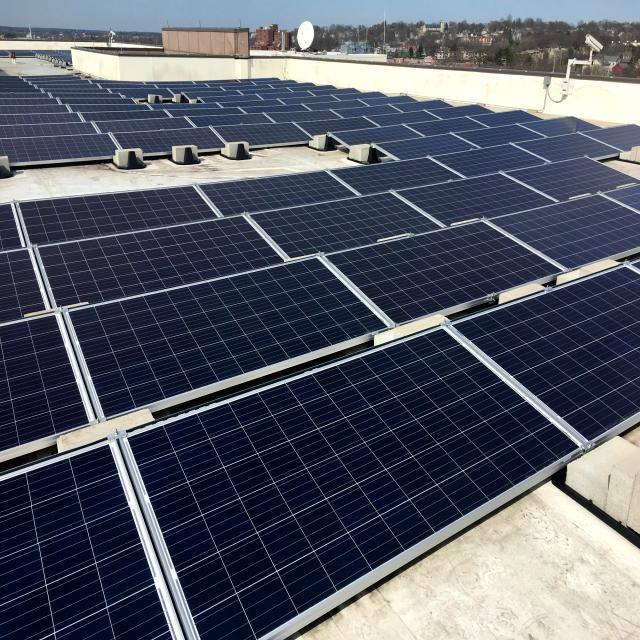crack: (88, 299, 594, 640), (49, 244, 441, 422), (463, 266, 640, 478), (314, 218, 590, 344), (383, 166, 564, 242), (9, 185, 232, 239), (255, 194, 435, 260), (509, 196, 640, 276), (194, 172, 358, 217)
